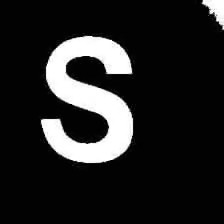LTR_S: (37, 27, 139, 169)
